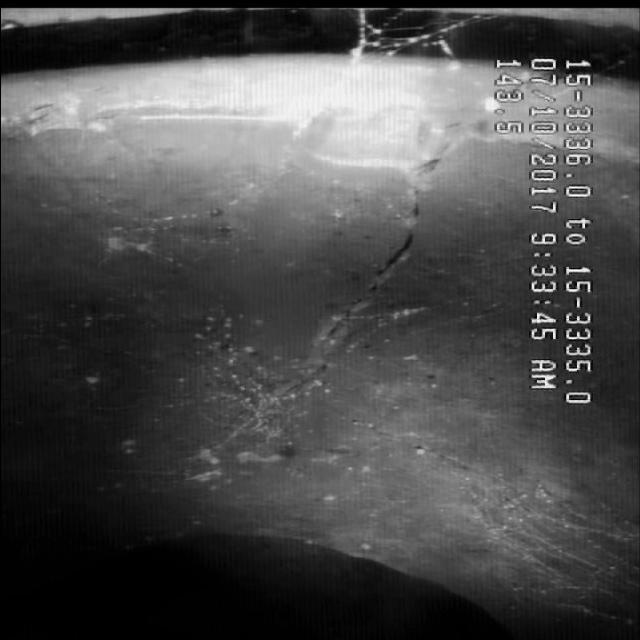Crack: (270, 192, 462, 388)
